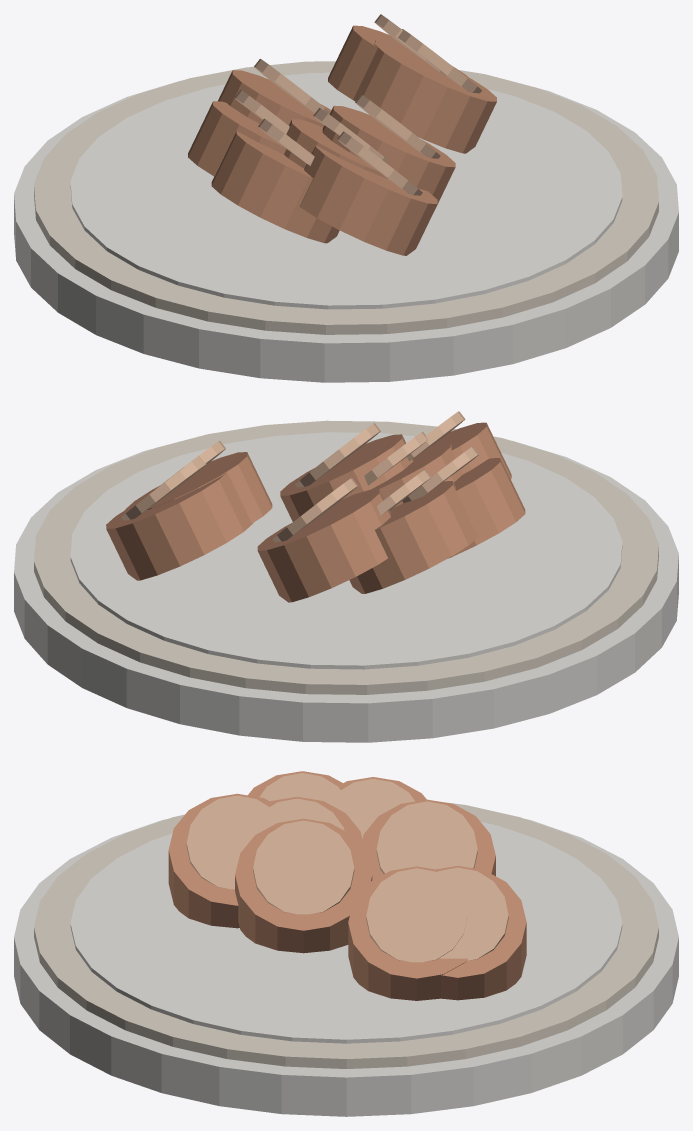
The model's file is xuc_xich.glb.
3 views of the same model, one above another, from view 1: azimuth 30°, elevation 25°; view 2: azimuth 150°, elevation 25°; view 3: azimuth 270°, elevation 25° (orthographic).
Visible parts, largest first — view 1: obj_0002, obj_0000, obj_0001, obj_0005, obj_0015, obj_0007, obj_0003, obj_0017, obj_0013, obj_0011, obj_0009, obj_0004 (+6 smaller); view 2: obj_0002, obj_0000, obj_0001, obj_0013, obj_0011, obj_0017, obj_0007, obj_0003, obj_0005, obj_0015, obj_0009, obj_0004 (+6 smaller); view 3: obj_0002, obj_0000, obj_0001, obj_0004, obj_0006, obj_0003, obj_0014, obj_0005, obj_0016, obj_0011, obj_0015, obj_0012 (+5 smaller).
Part boxes in pixels (x1,y1,x2,y2): obj_0002: [70, 72, 622, 309]; obj_0000: [14, 80, 678, 382]; obj_0001: [34, 61, 658, 334]; obj_0005: [353, 40, 496, 153]; obj_0015: [299, 145, 437, 255]; obj_0007: [211, 131, 339, 243]; obj_0003: [322, 105, 455, 210]; obj_0017: [188, 101, 286, 176]; obj_0013: [218, 70, 331, 127]; obj_0011: [328, 25, 467, 101]; obj_0009: [284, 119, 387, 178]; obj_0004: [355, 94, 440, 158]; obj_0002: [70, 432, 622, 669]; obj_0000: [14, 440, 678, 742]; obj_0001: [34, 420, 658, 694]; obj_0013: [257, 489, 390, 602]; obj_0011: [106, 472, 253, 580]; obj_0017: [349, 481, 477, 593]; obj_0007: [448, 458, 525, 558]; obj_0003: [280, 434, 413, 521]; obj_0005: [125, 452, 272, 523]; obj_0015: [432, 422, 511, 479]; obj_0009: [371, 443, 462, 507]; obj_0004: [295, 423, 380, 487]; obj_0002: [70, 822, 622, 1043]; obj_0000: [14, 819, 678, 1116]; obj_0001: [34, 802, 658, 1068]; obj_0004: [253, 820, 354, 914]; obj_0006: [366, 868, 467, 962]; obj_0003: [235, 818, 372, 953]; obj_0014: [376, 801, 477, 873]; obj_0005: [348, 866, 467, 1000]; obj_0016: [186, 795, 269, 889]; obj_0011: [436, 866, 526, 1000]; obj_0015: [168, 793, 269, 928]; obj_0012: [437, 867, 508, 960].
Size of the model in its own units: 1.84 by 0.479 by 1.84.
